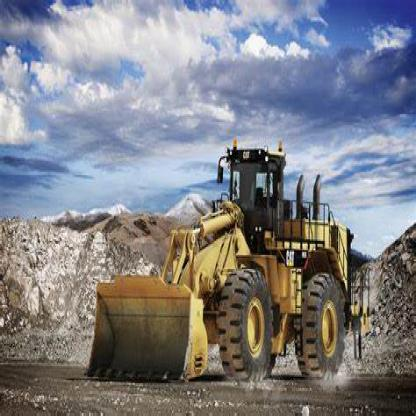bull_dozer/loader/grader: (82, 139, 376, 393)
